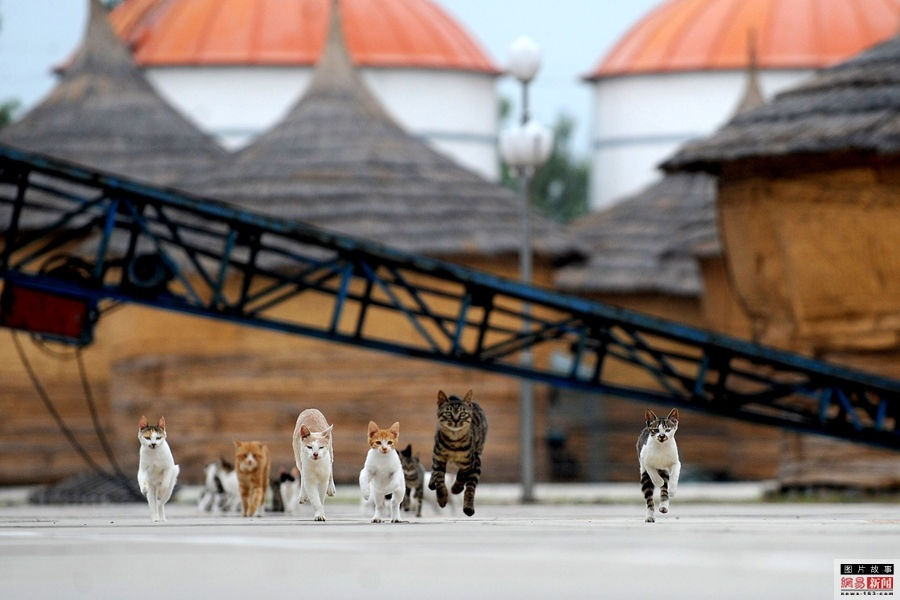cat: (427, 390, 488, 516), (636, 407, 682, 524), (291, 408, 337, 523), (135, 415, 180, 523), (359, 421, 406, 524), (234, 439, 273, 519), (397, 446, 426, 517), (265, 466, 297, 514)
